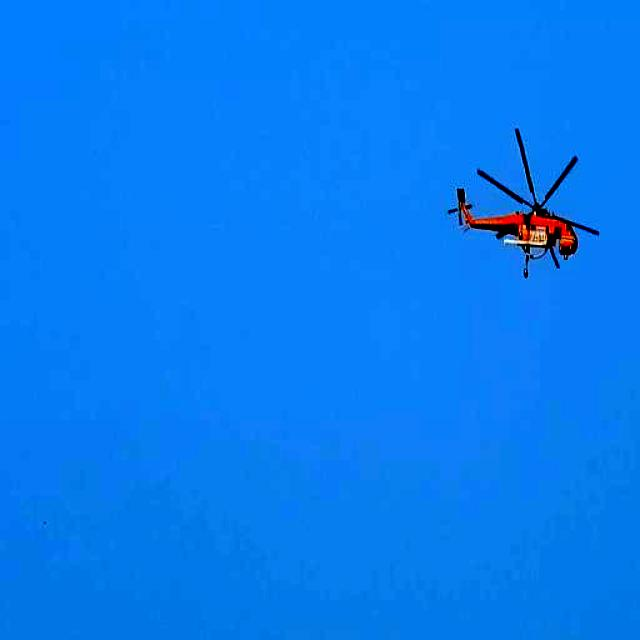drone: (445, 125, 601, 280)
